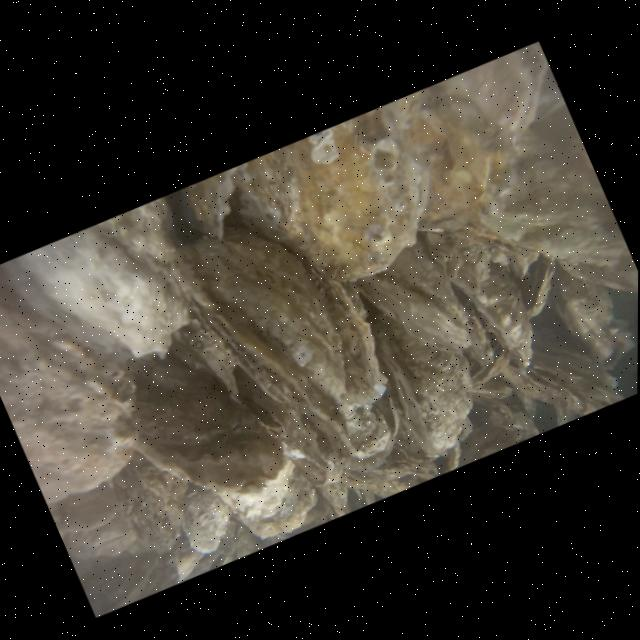Oyster-Closed: (173, 190, 420, 497), (350, 229, 500, 402)
Oyster-Indeterminate: (435, 61, 640, 346), (227, 96, 459, 316), (367, 36, 597, 248), (0, 237, 159, 510), (18, 193, 222, 393), (112, 325, 296, 528), (359, 288, 489, 465), (495, 295, 625, 436), (423, 202, 550, 319), (104, 436, 209, 558), (541, 254, 638, 383), (323, 414, 436, 515), (217, 454, 328, 554), (159, 297, 251, 411), (435, 384, 541, 472), (468, 276, 549, 373), (268, 401, 344, 495), (168, 475, 244, 561), (183, 167, 257, 245), (60, 508, 139, 576), (48, 479, 123, 541), (509, 254, 568, 318)
